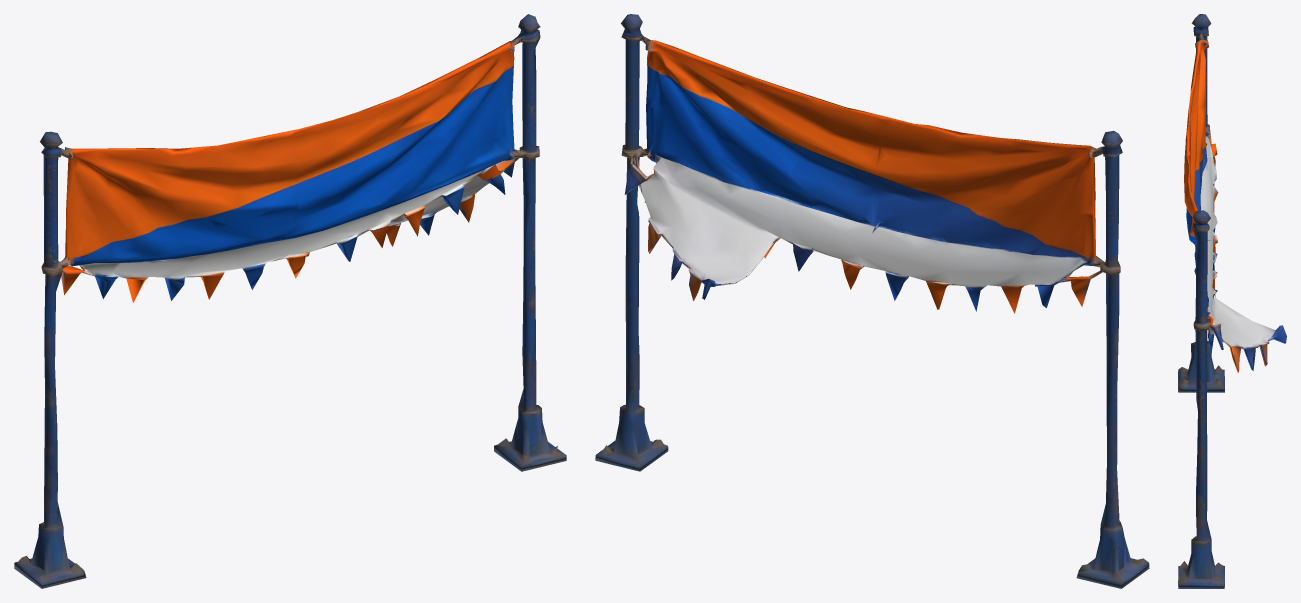
File: banner.glb
3 views of the same model, side by side, from view 1: azimuth 30°, elevation 25°; view 2: azimuth 150°, elevation 25°; view 3: azimuth 270°, elevation 25° (orthographic). The views are drawn at different scales.
Visible parts, largest first — view 1: tripo_node_a2a68dd1-1bf2-4ad7-be59-9315797c46a9; view 2: tripo_node_a2a68dd1-1bf2-4ad7-be59-9315797c46a9; view 3: tripo_node_a2a68dd1-1bf2-4ad7-be59-9315797c46a9.
Boxes of the visible parts, x1=… form: tripo_node_a2a68dd1-1bf2-4ad7-be59-9315797c46a9: x1=14, y1=14, x2=566, y2=588; tripo_node_a2a68dd1-1bf2-4ad7-be59-9315797c46a9: x1=595, y1=14, x2=1149, y2=588; tripo_node_a2a68dd1-1bf2-4ad7-be59-9315797c46a9: x1=1178, y1=14, x2=1286, y2=588.
Size of the model in its own units: 1 by 0.8024 by 0.2146.
Materials: 1 (1 with a texture image).
